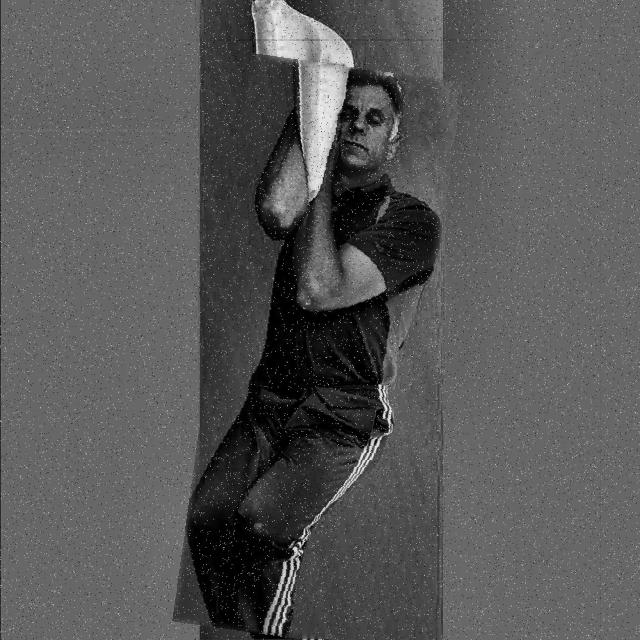Not_Supine: (187, 69, 442, 638)
